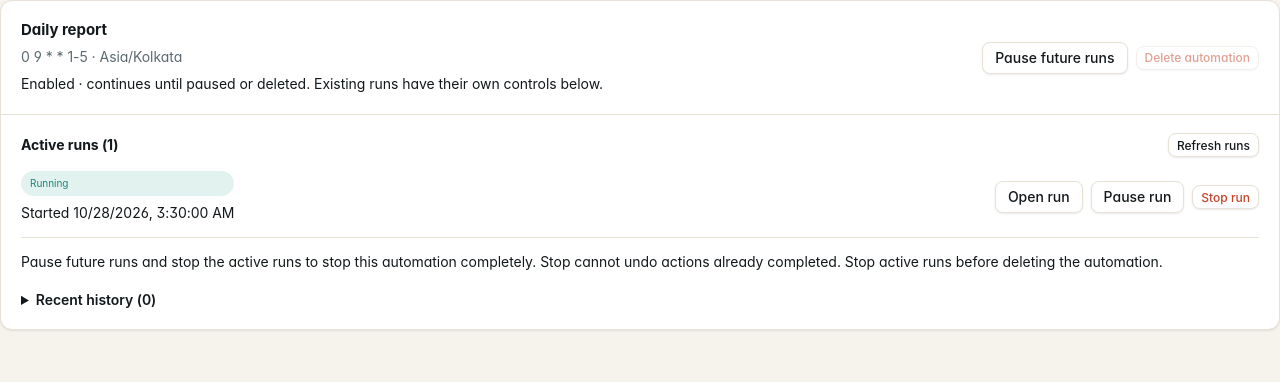
recurring automation management › requests stop once, waits for execution confirmation and keeps future runs separate
Click the button "Stop run": (1226, 197) [1192,185,1259,209]
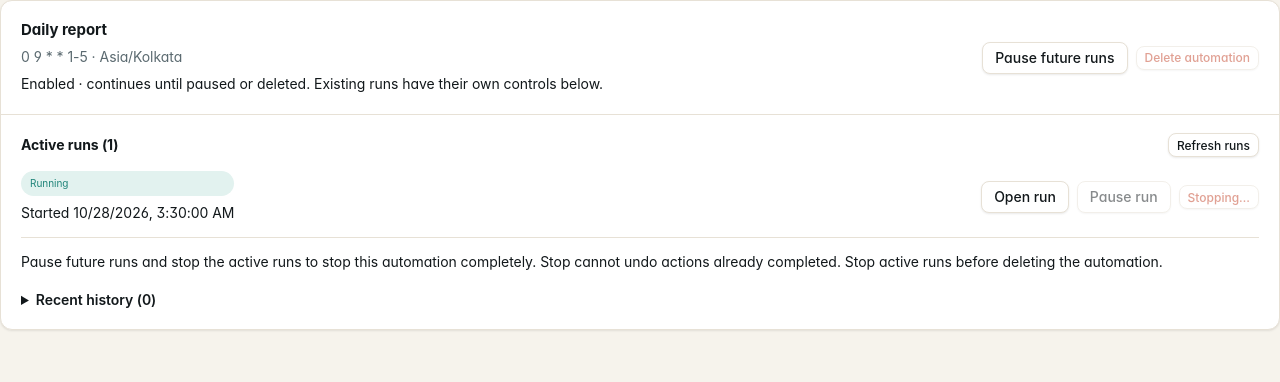
Click the button "Stopping…": (1219, 197) [1179,185,1259,209]
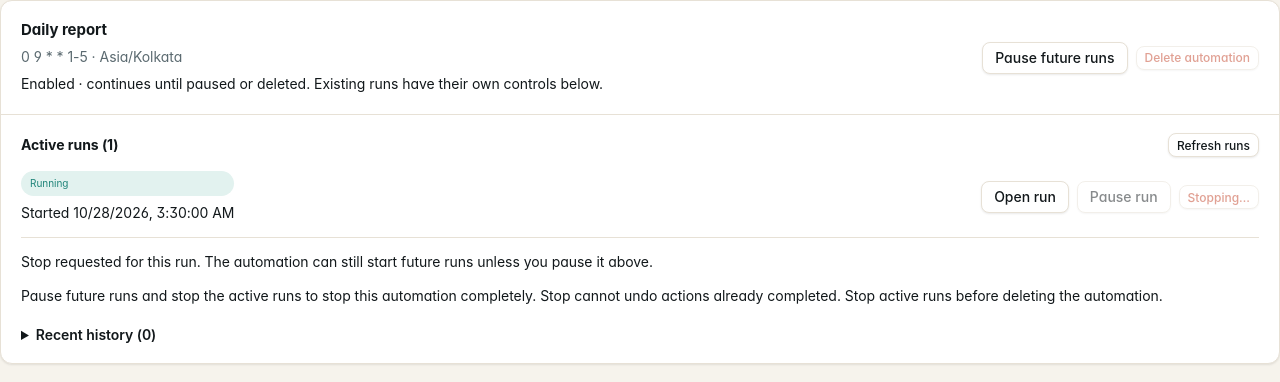
Check: the text "running" is shown, box [21,171,234,196]
Check: the button "Stopping…" is disabled, box [1179,185,1259,209]
Check: the text "Stop requested for this run" is shown, box [21,253,653,270]
Click the button "Refresh runs": (1213, 145) [1168,133,1259,157]
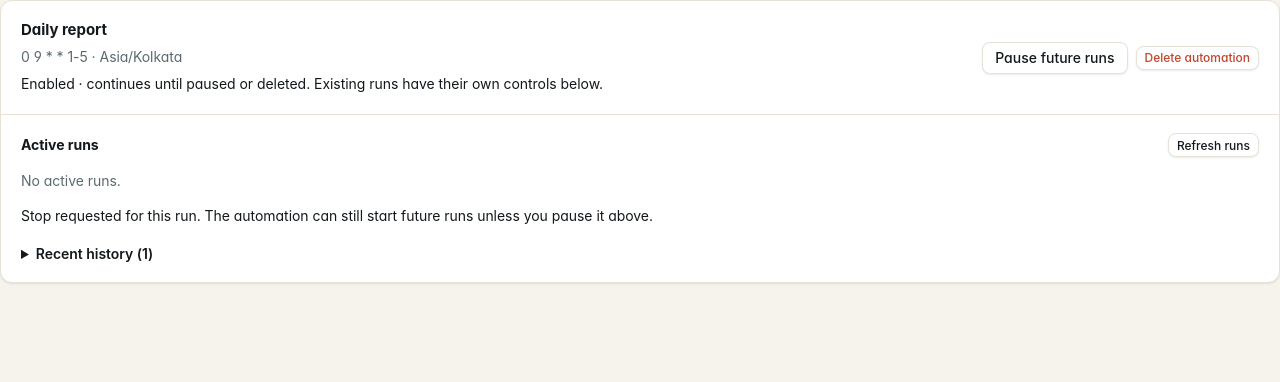
Check: the text "No active runs." is shown, box [21,172,121,189]
Check: the button "Stopping…" is gone
